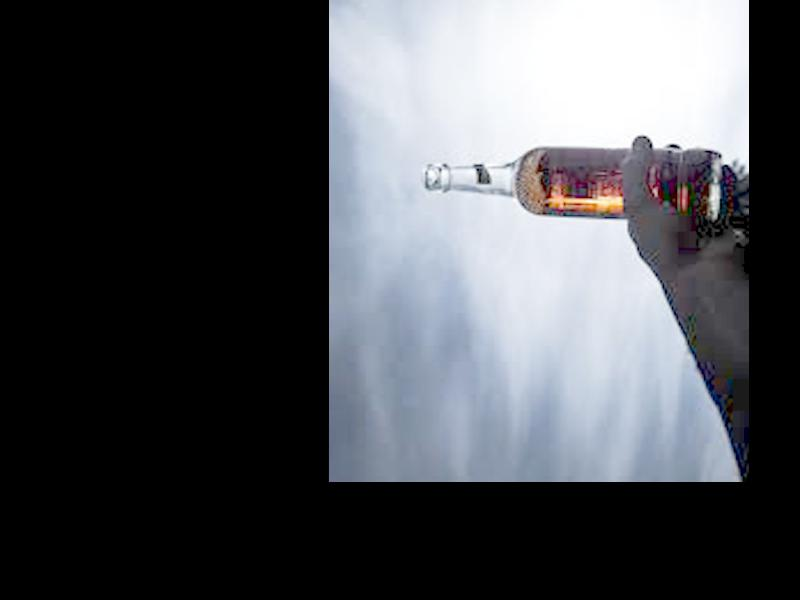Beer: (423, 150, 717, 219)
